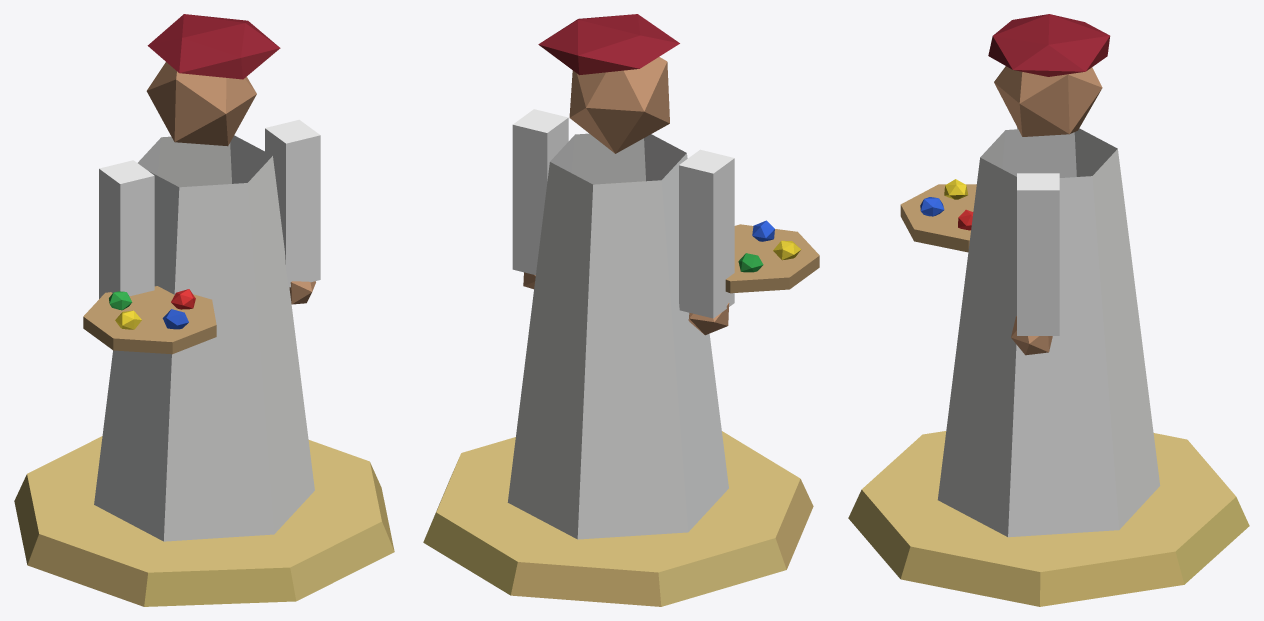
Rendered from Great Artist.glb.
The picture shows the model from 3 angles, left to right: view 1: azimuth 30°, elevation 25°; view 2: azimuth 150°, elevation 25°; view 3: azimuth 270°, elevation 25°; orthographic projection.
Visible parts, largest first — view 1: Units_Great Artist; view 2: Units_Great Artist; view 3: Units_Great Artist.
Part boxes in pixels (box(x1,y1,x2,y2)): Units_Great Artist: box(14, 14, 394, 606); Units_Great Artist: box(423, 14, 819, 606); Units_Great Artist: box(848, 14, 1249, 606).
Size of the model in its own units: 0.1498 by 0.2048 by 0.1498.
